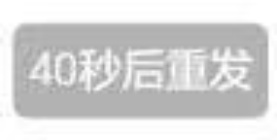Button: (1, 1, 276, 139)
